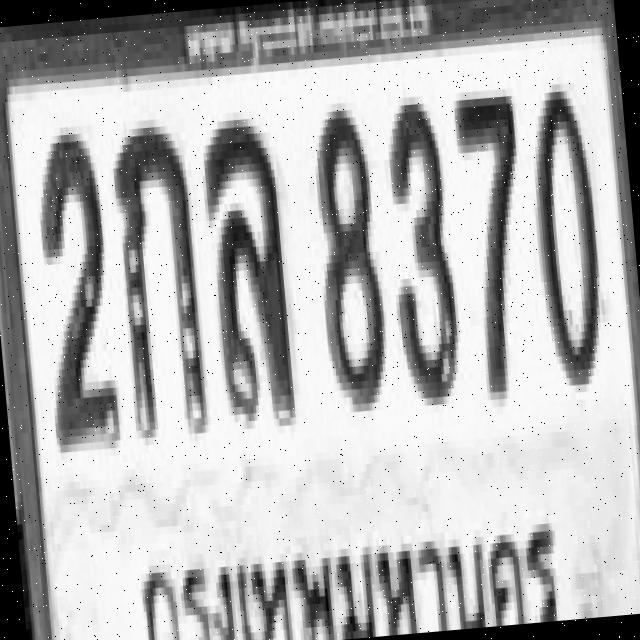0: (524, 81, 608, 386)
10GorGai: (109, 117, 208, 438)
2: (29, 125, 120, 445)
3: (378, 94, 462, 400)
45LorLing: (198, 109, 296, 423)
7: (452, 88, 537, 400)
8: (306, 101, 390, 406)
Bangkok: (121, 501, 571, 640)
